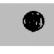correct: (22, 9, 46, 34)
